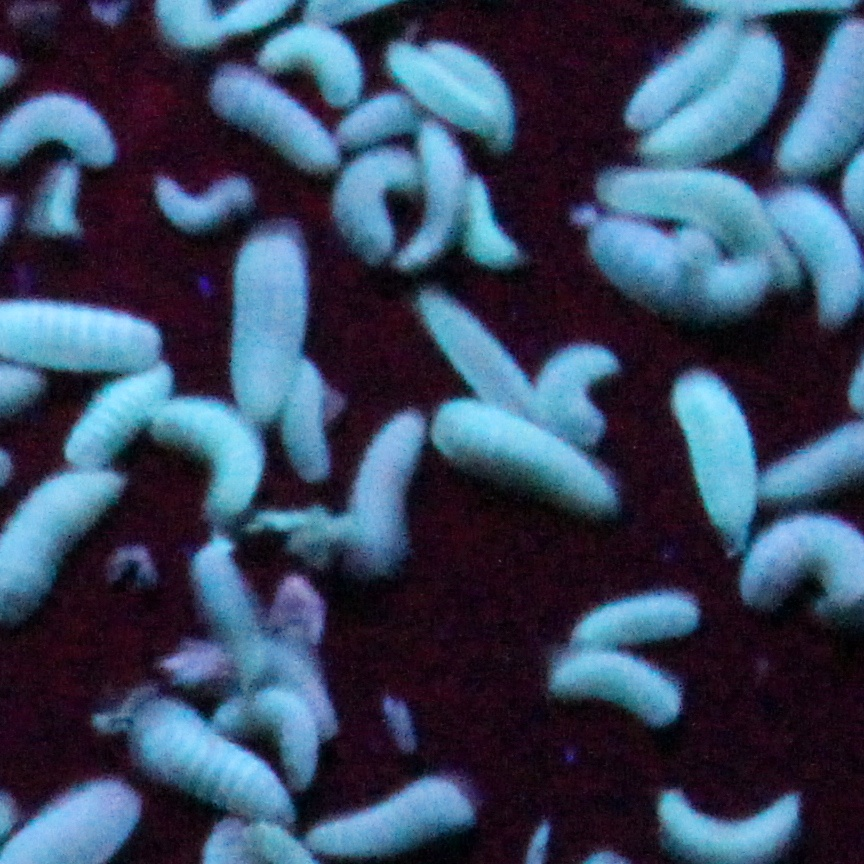larve: (602, 163, 800, 287), (434, 402, 617, 512), (122, 703, 294, 819), (646, 41, 787, 170), (673, 370, 761, 551), (146, 392, 268, 519), (417, 292, 536, 417), (231, 231, 312, 414), (308, 781, 467, 864), (65, 365, 180, 475), (214, 70, 346, 165), (353, 407, 426, 575), (624, 26, 741, 129), (653, 785, 804, 862), (192, 540, 269, 685), (385, 41, 497, 136), (210, 687, 318, 777), (334, 151, 417, 268), (545, 652, 679, 723), (536, 343, 614, 441), (571, 595, 698, 646), (439, 43, 509, 129), (153, 173, 248, 234), (285, 370, 334, 480), (456, 185, 524, 263), (41, 168, 80, 241)
